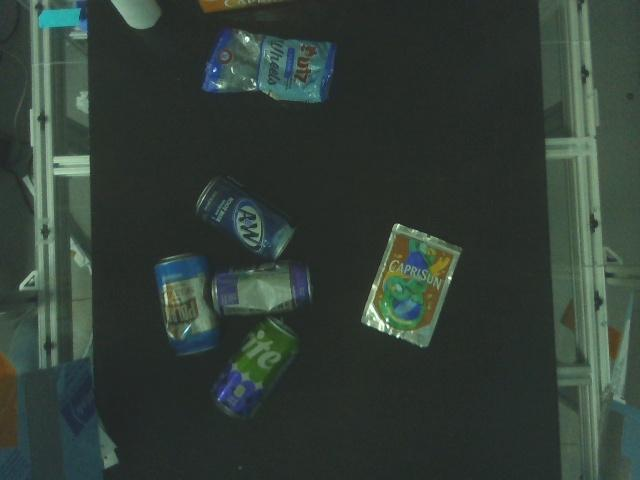cardboard: (108, 0, 164, 32), (194, 0, 291, 16)
metal: (209, 317, 301, 421), (196, 173, 298, 261), (153, 253, 221, 356), (212, 260, 314, 317)
plastic: (360, 224, 462, 349), (201, 28, 338, 105)
